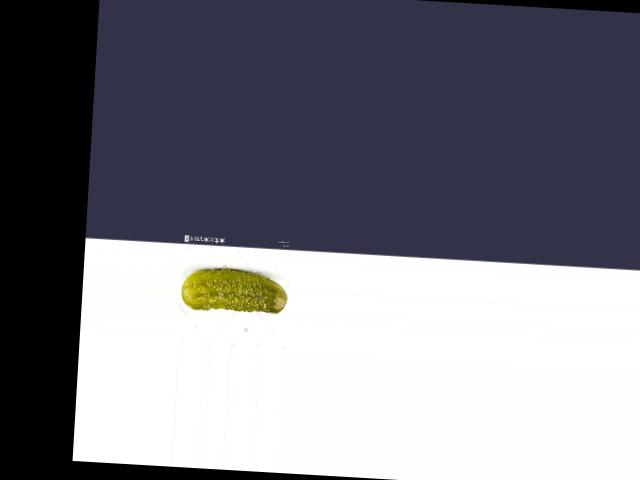cucumber: (180, 265, 290, 315)
